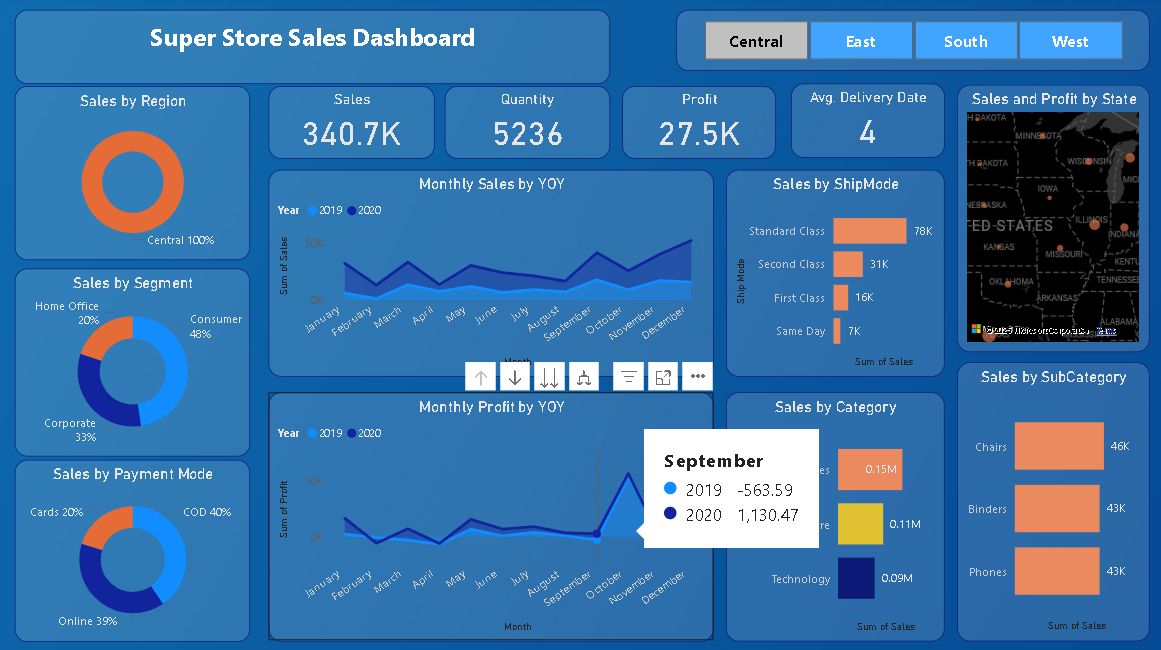

Layout of this report page (visuals, bound fields, positions):
{"tool":"powerbi","page":{"name":"Page 1","canvas":[1280,720],"ordinal":0},"visuals":[{"type":"clusteredBarChart","title":"Sales by Category","fields":{"Category":["SuperStore_Sales_Dataset.Category"],"Y":["Sum(SuperStore_Sales_Dataset.Sales)"]},"box":[801.2,435,240,273.8],"z":0},{"type":"clusteredBarChart","title":"Sales by SubCategory","fields":{"Category":["SuperStore_Sales_Dataset.Sub-Category"],"Y":["Sum(SuperStore_Sales_Dataset.Sales)"]},"box":[1055,402.5,211.2,306.2],"z":1000},{"type":"clusteredBarChart","title":"Sales by ShipMode","fields":{"Category":["SuperStore_Sales_Dataset.Ship Mode"],"Y":["Sum(SuperStore_Sales_Dataset.Sales)"]},"box":[801.2,191.2,240,227.5],"z":2000},{"type":"stackedAreaChart","title":"Monthly Sales by YOY","fields":{"Y":["Sum(SuperStore_Sales_Dataset.Sales)"],"Series":["SuperStore_Sales_Dataset.Order Date.Variation.Date Hierarchy.Year"],"Category":["SuperStore_Sales_Dataset.Order Date.Variation.Date Hierarchy.Month","SuperStore_Sales_Dataset.Order Date.Variation.Date Hierarchy.Day"]},"box":[298.8,191.2,488.8,227.5],"z":3000},{"type":"stackedAreaChart","title":"Monthly Profit by YOY","fields":{"Series":["SuperStore_Sales_Dataset.Order Date.Variation.Date Hierarchy.Year"],"Category":["SuperStore_Sales_Dataset.Order Date.Variation.Date Hierarchy.Month","SuperStore_Sales_Dataset.Order Date.Variation.Date Hierarchy.Day"],"Y":["Sum(SuperStore_Sales_Dataset.Profit)"]},"box":[298.8,435,488.8,273.8],"z":4000},{"type":"map","title":"Sales and Profit by State","fields":{"Category":["SuperStore_Sales_Dataset.State"],"Size":["Sum(SuperStore_Sales_Dataset.Sales)"]},"box":[1055.2,97.4,211.3,293.7],"z":5000},{"type":"donutChart","title":" Sales by Segment","fields":{"Category":["SuperStore_Sales_Dataset.Segment"],"Y":["Sum(SuperStore_Sales_Dataset.Sales)"]},"box":[20,298.8,258.8,206.2],"z":6000},{"type":"donutChart","title":" Sales by Payment Mode","fields":{"Category":["SuperStore_Sales_Dataset.Payment Mode"],"Y":["Sum(SuperStore_Sales_Dataset.Sales)"]},"box":[20,508.8,258.8,200],"z":7000},{"type":"slicer","fields":{"Values":["SuperStore_Sales_Dataset.Region"]},"box":[746.2,15,520,67.5],"z":8000},{"type":"textbox","box":[20,15,653.8,81.2],"z":9000},{"type":"card","title":"Sales","fields":{"Values":["Sum(SuperStore_Sales_Dataset.Sales)"]},"box":[298.8,98.8,182.5,80],"z":10000},{"type":"card","title":"Quantity","fields":{"Values":["Sum(SuperStore_Sales_Dataset.Quantity)"]},"box":[492.5,98.8,181.2,80],"z":11000},{"type":"card","title":"Profit","fields":{"Values":["Sum(SuperStore_Sales_Dataset.Profit)"]},"box":[687.5,98.8,168.8,80],"z":12000},{"type":"card","title":"Avg. Delivery Date","fields":{"Values":["Avg(SuperStore_Sales_Dataset.AverageDelivery)"]},"box":[872.5,96.2,168.8,81.2],"z":13000},{"type":"donutChart","title":" Sales by Region","fields":{"Category":["SuperStore_Sales_Dataset.Region"],"Y":["Sum(SuperStore_Sales_Dataset.Sales)"]},"box":[20,98.8,258.8,191.2],"z":13001}]}

Visuals, with their boxes in screenshot pixels (x1, y1, x2, y2), scaled from the page's 1280x720 canvas onto the 1161x650 screenshot:
"Sales by Category" clusteredBarChart: x1=727, y1=393, x2=944, y2=640
"Sales by SubCategory" clusteredBarChart: x1=957, y1=363, x2=1148, y2=640
"Sales by ShipMode" clusteredBarChart: x1=727, y1=173, x2=944, y2=378
"Monthly Sales by YOY" stackedAreaChart: x1=271, y1=173, x2=714, y2=378
"Monthly Profit by YOY" stackedAreaChart: x1=271, y1=393, x2=714, y2=640
"Sales and Profit by State" map: x1=957, y1=88, x2=1149, y2=353
" Sales by Segment" donutChart: x1=18, y1=270, x2=253, y2=456
" Sales by Payment Mode" donutChart: x1=18, y1=459, x2=253, y2=640
slicer - SuperStore_Sales_Dataset.Region: x1=677, y1=14, x2=1148, y2=74
textbox: x1=18, y1=14, x2=611, y2=87
"Sales" card: x1=271, y1=89, x2=437, y2=161
"Quantity" card: x1=447, y1=89, x2=611, y2=161
"Profit" card: x1=624, y1=89, x2=777, y2=161
"Avg. Delivery Date" card: x1=791, y1=87, x2=944, y2=160
" Sales by Region" donutChart: x1=18, y1=89, x2=253, y2=262
